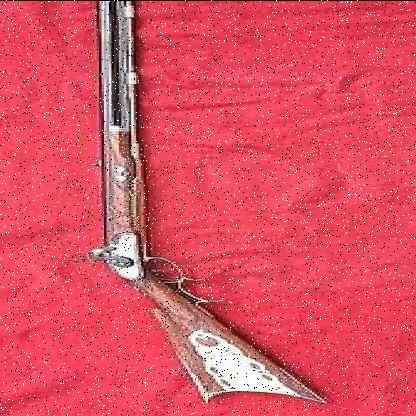rifle: (32, 1, 337, 398)
